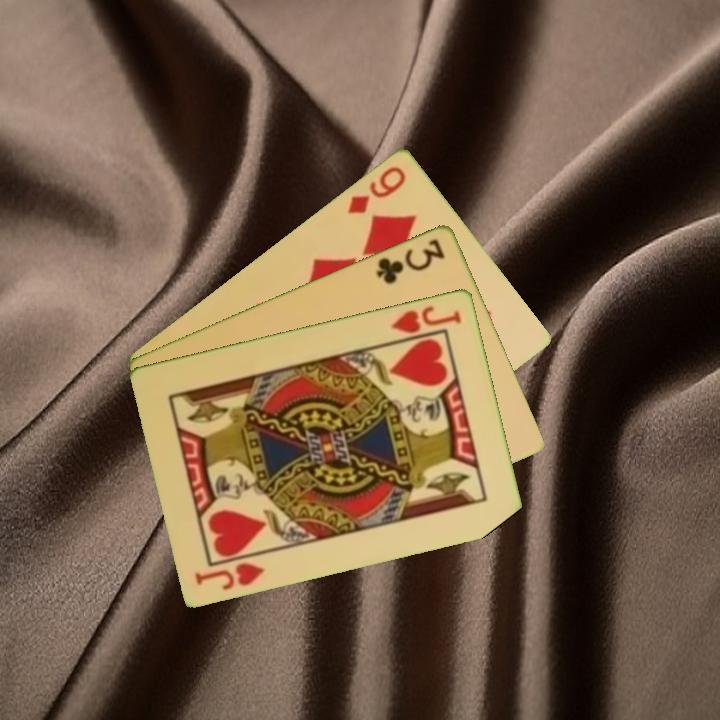3c: (373, 234, 448, 287)
9d: (343, 162, 409, 217)
Jh: (386, 302, 465, 345), (192, 558, 268, 593)
